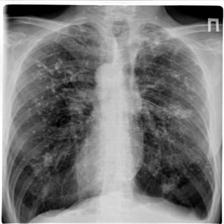tuberculosis: (6, 13, 218, 223)
